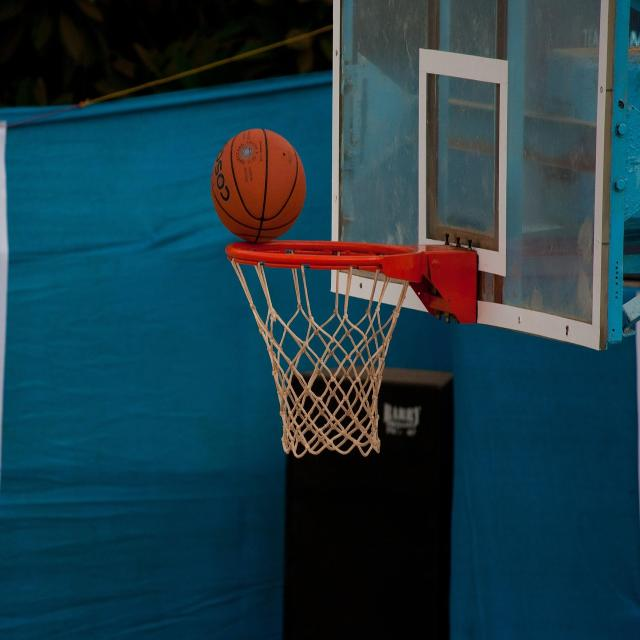rebound_hit: (210, 128, 308, 252)
